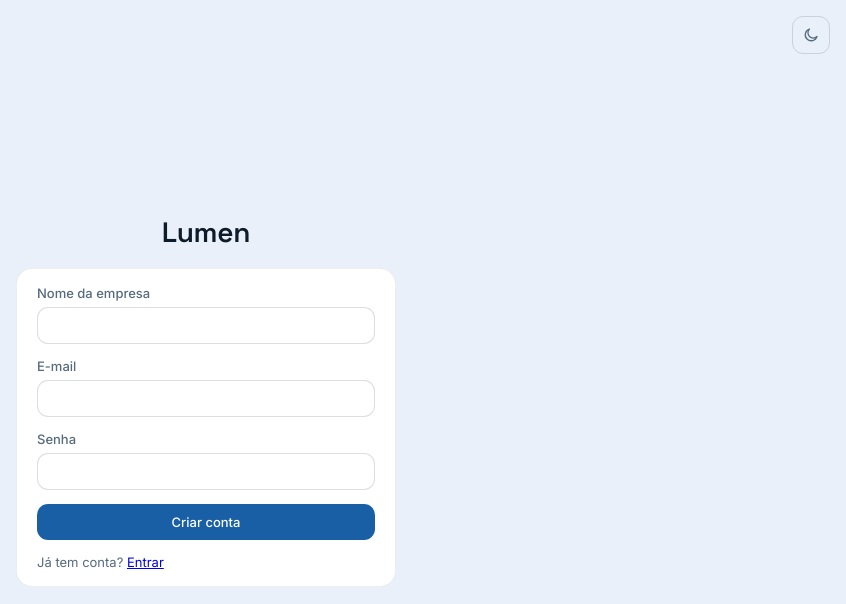
Test case: SignupPage › submits valid input and shows the non-enumerating "check your email" state
Type "Acme" into the field labelled "Nome da empresa" at x=206, y=325, box [37,306,375,344]
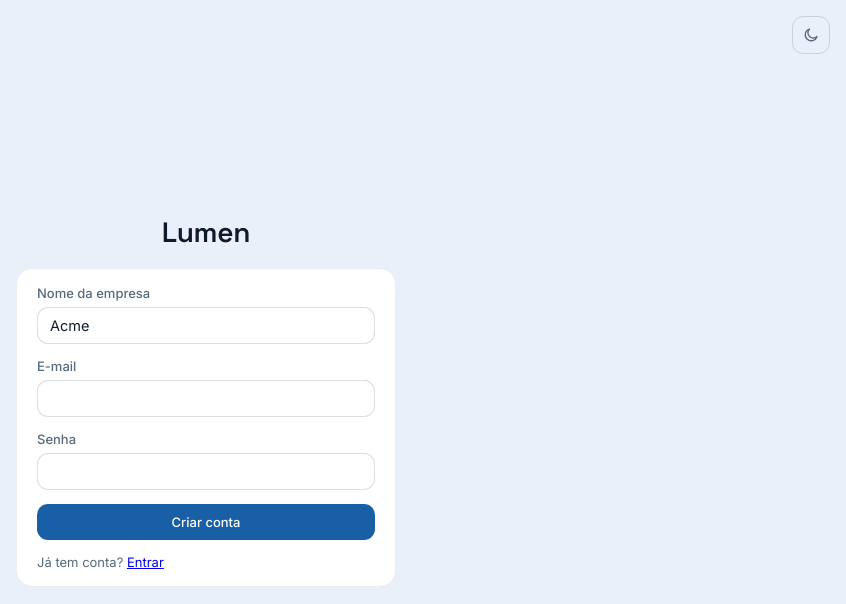
Type "owner@example.com" into the field labelled "E-mail" at x=206, y=398, box [37,380,375,416]
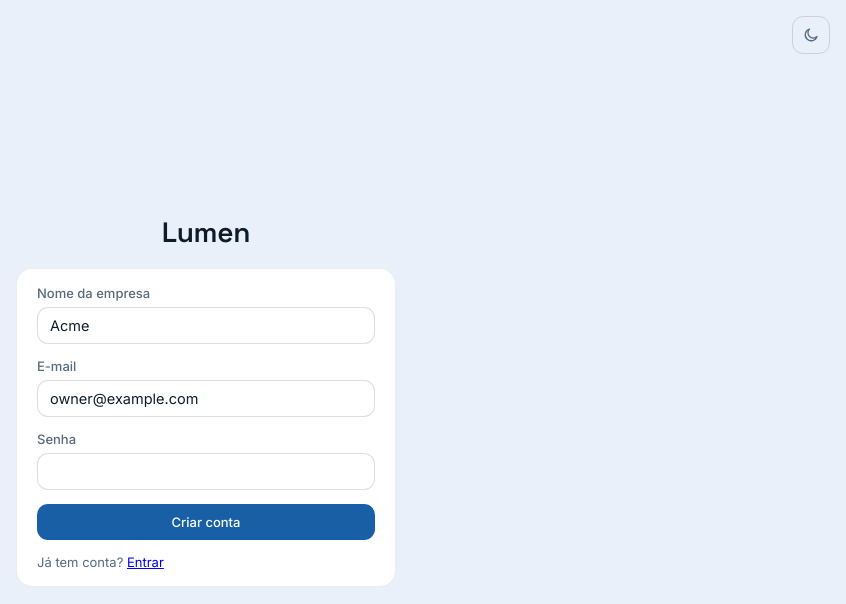
Type "a-strong-pass-9" into the password field labelled "Senha" at x=206, y=471, box [37,452,375,490]
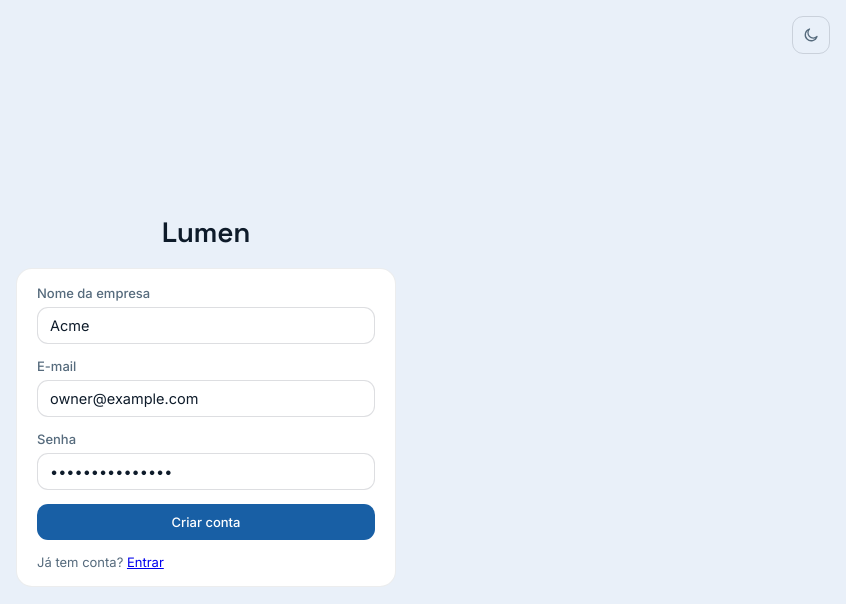
Click the button "Criar conta" at x=206, y=522, box [37,504,375,540]
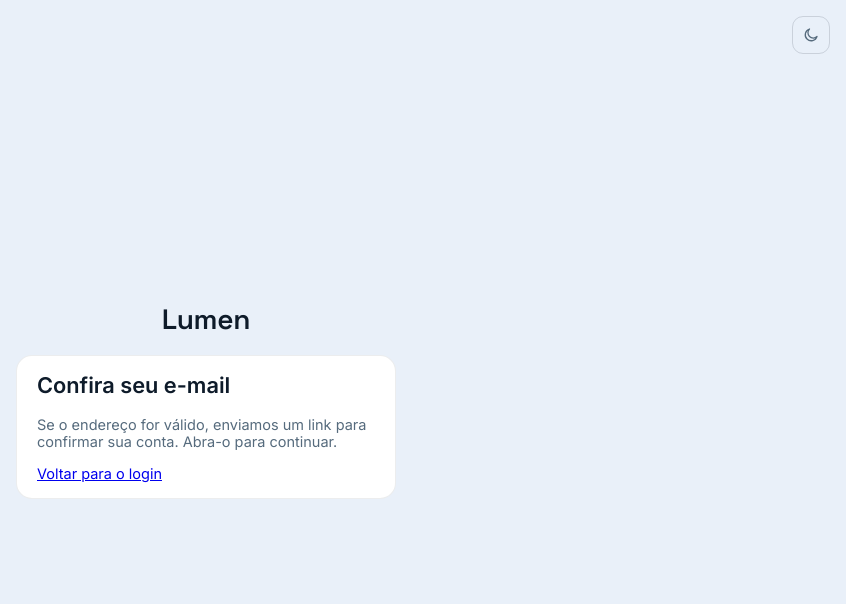
Check: the heading "Confira seu e-mail" is shown, box [37,372,230,398]
